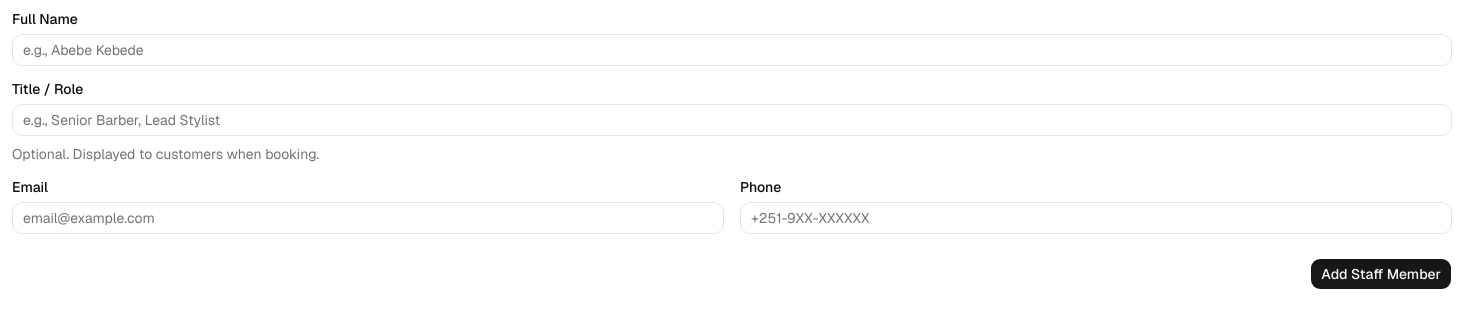
Test: StaffForm — Create mode › shows validation error for invalid email format
The width and height of the screenshot is (1464, 334).
Type "John Doe" into the field with placeholder "e.g., Abebe Kebede" at (732, 50), box top-left (12, 34), bottom-right (1452, 66)
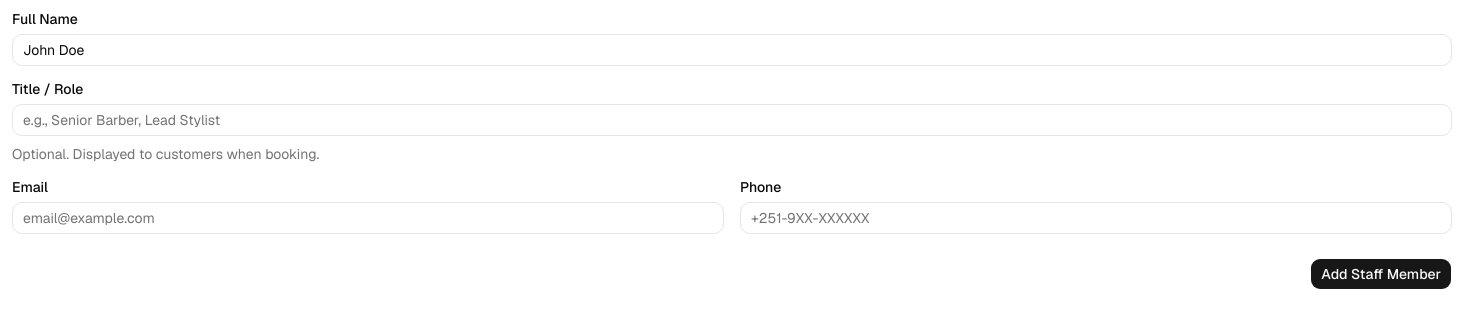
Type "not-an-email" into the field with placeholder "email@example.com" at (368, 218), box top-left (12, 202), bottom-right (724, 234)
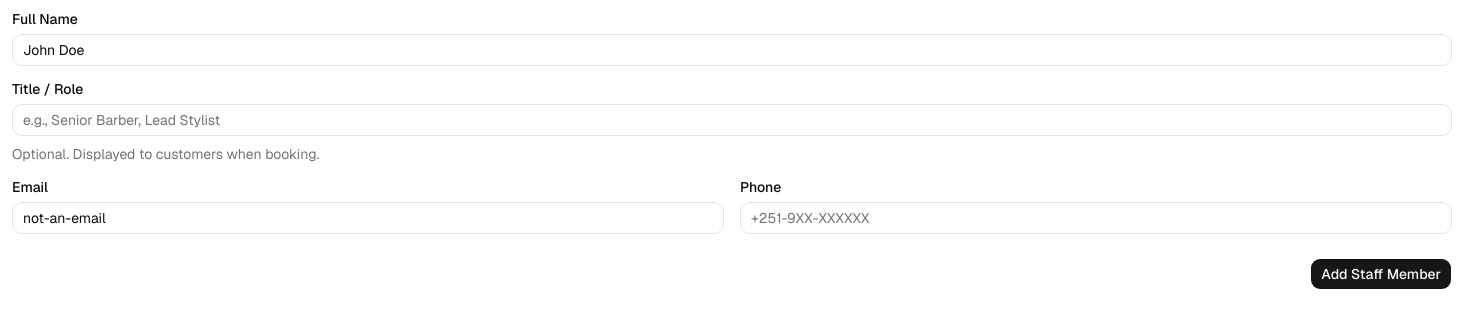
Submit the form
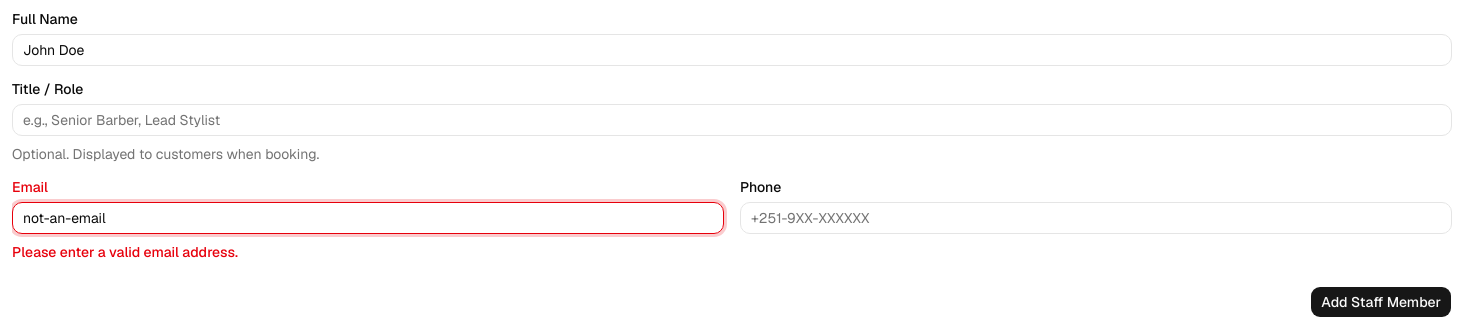
Expected: the text "Please enter a valid email address." is shown, top-left (12, 243), bottom-right (238, 261)
